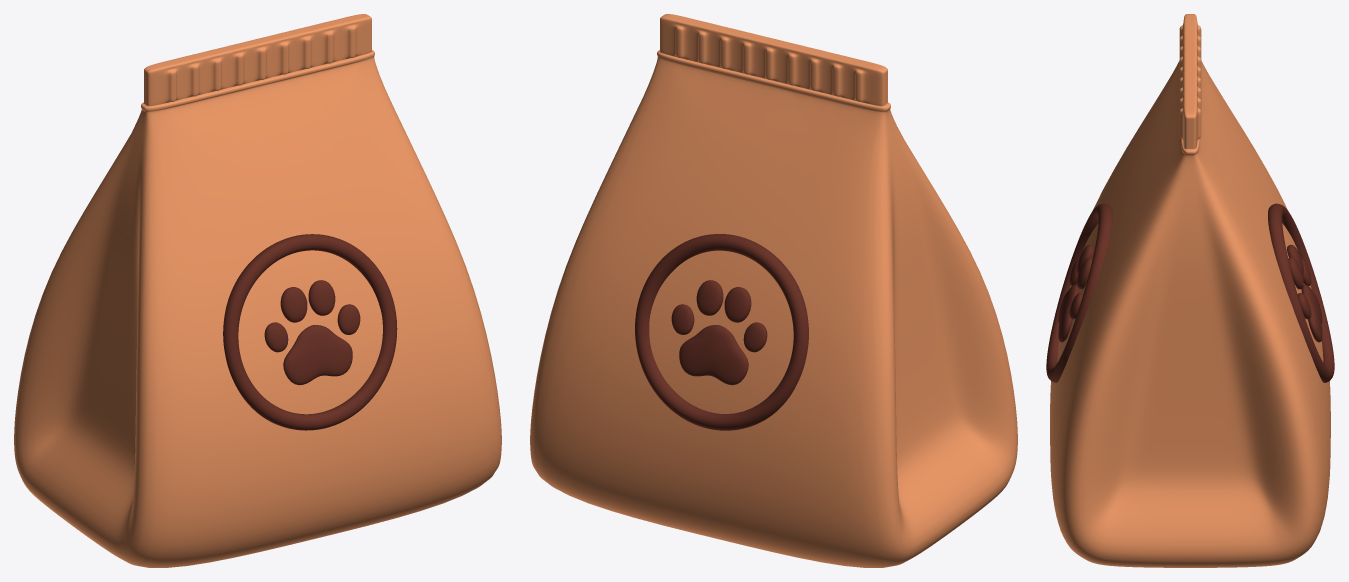
Rendered from Pet Food .fbx.
The picture shows the model from 3 angles, left to right: view 1: azimuth 30°, elevation 25°; view 2: azimuth 150°, elevation 25°; view 3: azimuth 270°, elevation 25°; orthographic projection. The views are drawn at different scales.
Parts seen in each view (by area): view 1: Packaging, Frame, Logos; view 2: Packaging, Frame, Logos; view 3: Packaging, Frame, Logos.
Part boxes in pixels (x1,y1,x2,y2): Packaging: (14, 14, 501, 567); Frame: (223, 234, 397, 430); Logos: (264, 280, 360, 385); Packaging: (530, 14, 1017, 567); Frame: (635, 234, 808, 430); Logos: (671, 280, 767, 385); Packaging: (1050, 14, 1330, 567); Frame: (1046, 203, 1334, 382); Logos: (1058, 244, 1322, 342).
Size of the model in its own units: 188 by 225 by 134.
